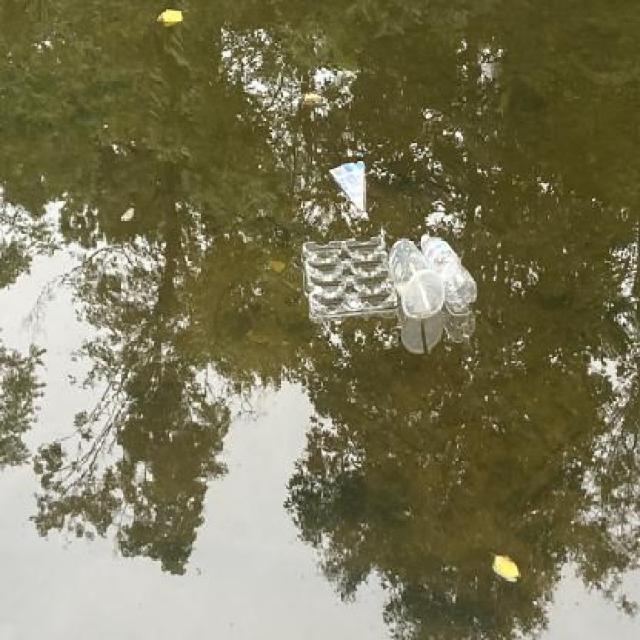Plastic: (296, 226, 481, 326), (325, 149, 377, 225)
